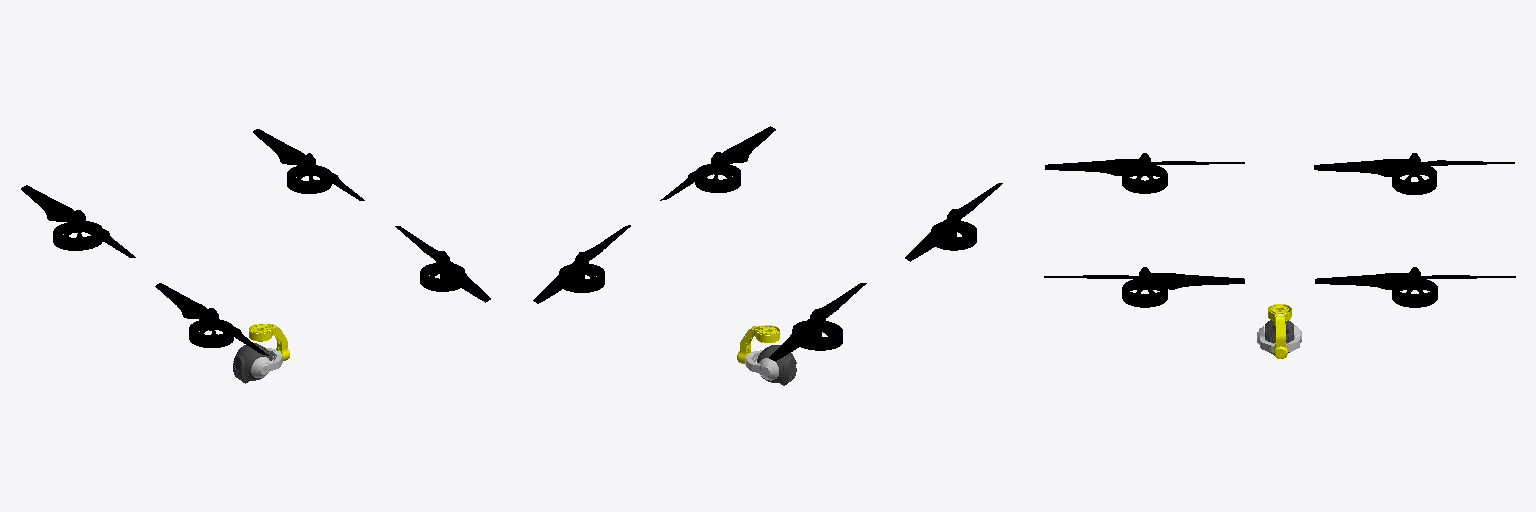
The robot description file, URDF, robot "swarm_drone":
<?xml version="1.0" ?>
<!-- =================================================================================== -->
<!-- |    This document was autogenerated by xacro from drone.urdf.xacro               | -->
<!-- |    EDITING THIS FILE BY HAND IS NOT RECOMMENDED                                 | -->
<!-- =================================================================================== -->
<robot name="swarm_drone">
  <material name="CameraMesh.001">
    <color rgba="0.02745 0.02745 0.02745 1.00000"/>
  </material>
  <!-- Dark grey color for the depth camera plastic material -->
  <material name="CameraMesh.003">
    <color rgba="0.02745 0.02745 0.02745 1.00000"/>
  </material>
  <material name="Material.005">
    <color rgba="0.80000 0.80000 0.80000 1.00000"/>
  </material>
  <!-- Darker black color for the landing drone parts -->
  <material name="LandingRubber">
    <color rgba="0.00392 0.00392 0.00392 1.00000"/>
  </material>
  <!-- Light grey color for the joint of 360 camera -->
  <material name="Metal">
    <color rgba="0.31765 0.31765 0.31765 1.00000"/>
  </material>
  <!-- Light yellow color for the drone body -->
  <material name="RailsAntennaHolder">
    <color rgba="0.95294 0.95294 0.00000 1.00000"/>
  </material>
  <!-- Dark grey color for the drone propellers -->
  <material name="green_metal">
    <color rgba="0.26667 0.02745 0.38824 1.00000"/>
  </material>
  <!-- Dark grey color for the camera 360 holder -->
  <material name="RailsRubber">
    <color rgba="0.10048 0.10048 0.10048 1.00000"/>
  </material>
  <!-- Fiber carbon material for the drone -->
  <material name="CarbonFiber">
    <texture filename="package://drone_description/meshes/visuals/CF.png"/>
    <color rgba="0.80000 0.80000 0.80000 1.00000"/>
  </material>
  <!-- Main quadcopter link -->
  <link name="base_link">
    <collision name="base_collision">
      <origin rpy="0.00000 0.00000 0.00000" xyz="0.00000 -0.00000 -0.00000"/>
      <geometry>
        <mesh filename="package://drone_description/meshes/collisions/base.stl" scale="1.00000 1.00000 1.00000"/>
      </geometry>
    </collision>
    <inertial>
      <inertia ixx="0.00558" ixy="-0.00000" ixz="0.00006" iyy="0.00469" iyz="0.00000" izz="0.00448"/>
      <origin rpy="0.00000 0.00000 0.00000" xyz="0.00015 -0.00004 0.02583"/>
      <mass value="0.32500"/>
    </inertial>
    <visual name="base">
      <origin rpy="0.00000 0.00000 0.00000" xyz="0.00000 -0.00000 -0.00000"/>
      <material name="Metal"/>
      <geometry>
        <mesh filename="package://drone_description/meshes/visuals/base.dae" scale="1.00000 1.00000 1.00000"/>
      </geometry>
    </visual>
  </link>
  <!-- Front left propeller link -->
  <link name="propeller_FL_link">
    <collision name="propeller_FL_collision">
      <origin rpy="0.00000 0.00000 0.00000" xyz="0.00000 0.00000 0.00000"/>
      <geometry>
        <mesh filename="package://drone_description/meshes/collisions/prop_fl.stl" scale="0.75000 0.75000 0.75000"/>
      </geometry>
    </collision>
    <inertial>
      <inertia ixx="0.00006" ixy="0.00000" ixz="0.00000" iyy="0.00001" iyz="-0.00000" izz="0.00007"/>
      <origin rpy="0.00000 0.00000 0.00000" xyz="0.00000 -0.00000 0.00000"/>
      <mass value="0.05000"/>
    </inertial>
    <visual name="propeller_FL">
      <origin rpy="0.00000 0.00000 0.00000" xyz="0.00000 0.00000 0.00000"/>
      <material name="LandingRubber"/>
      <geometry>
        <mesh filename="package://drone_description/meshes/visuals/prop_fl.dae" scale="0.75000 0.75000 0.75000"/>
      </geometry>
    </visual>
  </link>
  <!-- Front left propeller link -->
  <link name="propeller_FR_link">
    <collision name="propeller_FR_collision">
      <origin rpy="0.00000 0.00000 0.00000" xyz="0.00000 0.00000 -0.00000"/>
      <geometry>
        <mesh filename="package://drone_description/meshes/collisions/prop_fl.stl" scale="0.85046 0.75000 0.75000"/>
      </geometry>
    </collision>
    <inertial>
      <inertia ixx="0.00006" ixy="-0.00000" ixz="-0.00000" iyy="0.00001" iyz="0.00000" izz="0.00007"/>
      <origin rpy="0.00000 0.00000 0.00000" xyz="-0.00000 -0.00000 -0.00000"/>
      <mass value="0.05000"/>
    </inertial>
    <visual name="propeller_FR">
      <origin rpy="0.00000 0.00000 0.00000" xyz="0.00000 -0.00000 -0.00000"/>
      <material name="LandingRubber"/>
      <geometry>
        <mesh filename="package://drone_description/meshes/visuals/prop_fl.dae" scale="0.85046 0.75000 0.75000"/>
      </geometry>
    </visual>
  </link>
  <!-- Back left propeller link -->
  <link name="propeller_BL_link">
    <collision name="propeller_BL_collision">
      <origin rpy="0.00000 0.00000 0.00000" xyz="0.00000 0.00000 -0.00000"/>
      <geometry>
        <mesh filename="package://drone_description/meshes/collisions/prop_bl.stl" scale="0.85046 0.75000 0.75000"/>
      </geometry>
    </collision>
    <inertial>
      <inertia ixx="0.00006" ixy="-0.00000" ixz="-0.00000" iyy="0.00001" iyz="0.00000" izz="0.00007"/>
      <origin rpy="0.00000 0.00000 0.00000" xyz="-0.00000 -0.00000 -0.00000"/>
      <mass value="0.05000"/>
    </inertial>
    <visual name="propeller_BL">
      <origin rpy="0.00000 0.00000 0.00000" xyz="0.00000 0.00000 0.00000"/>
      <material name="LandingRubber"/>
      <geometry>
        <mesh filename="package://drone_description/meshes/visuals/prop_bl.dae" scale="0.85046 0.75000 0.75000"/>
      </geometry>
    </visual>
  </link>
  <!-- Back right propeller link -->
  <link name="propeller_BR_link">
    <collision name="propeller_BR_collision">
      <origin rpy="0.00000 0.00000 0.00000" xyz="0.00000 -0.00000 -0.00000"/>
      <geometry>
        <mesh filename="package://drone_description/meshes/collisions/prop_br.stl" scale="0.75000 0.75000 0.75000"/>
      </geometry>
    </collision>
    <inertial>
      <inertia ixx="0.00006" ixy="0.00000" ixz="0.00000" iyy="0.00001" iyz="-0.00000" izz="0.00007"/>
      <origin rpy="0.00000 0.00000 0.00000" xyz="-0.00000 -0.00000 -0.00000"/>
      <mass value="0.05000"/>
    </inertial>
    <visual name="propeller_BR">
      <origin rpy="0.00000 0.00000 0.00000" xyz="0.00000 -0.00000 0.00000"/>
      <material name="LandingRubber"/>
      <geometry>
        <mesh filename="package://drone_description/meshes/visuals/prop_br.dae" scale="0.75000 0.75000 0.75000"/>
      </geometry>
    </visual>
  </link>
  <!-- Camera 360 link -->
  <link name="camera_360_link">
    <collision name="camera_360_collision">
      <origin rpy="-1.57080 0.00000 -0.11900" xyz="-0.00000 -0.00000 0.00000"/>
      <geometry>
        <mesh filename="package://drone_description/meshes/collisions/camera_360.stl" scale="0.00072 0.00072 0.00072"/>
      </geometry>
    </collision>
    <inertial>
      <inertia ixx="0.00001" ixy="-0.00000" ixz="-0.00000" iyy="0.00001" iyz="-0.00000" izz="0.00001"/>
      <origin rpy="0.00000 0.00000 0.00000" xyz="-0.00243 -0.00074 -0.00000"/>
      <mass value="0.03000"/>
    </inertial>
    <visual name="camera_360">
      <origin rpy="-1.57080 0.00000 -0.11900" xyz="-0.00000 -0.00000 0.00000"/>
      <material name="Metal"/>
      <geometry>
        <mesh filename="package://drone_description/meshes/visuals/camera_360.dae" scale="0.00072 0.00072 0.00072"/>
      </geometry>
    </visual>
  </link>
  <!-- Camera joint 1 link -->
  <link name="camera_joint_1_link">
    <collision name="camera_joint_1_collision">
      <origin rpy="0.66577 -1.57080 -0.64827" xyz="-0.00000 0.00000 0.00000"/>
      <geometry>
        <mesh filename="package://drone_description/meshes/collisions/camera_joint1.stl" scale="0.00072 0.00072 0.00072"/>
      </geometry>
    </collision>
    <inertial>
      <inertia ixx="0.00001" ixy="-0.00000" ixz="0.00000" iyy="0.00001" iyz="-0.00000" izz="0.00001"/>
      <origin rpy="0.00000 0.00000 0.00000" xyz="-0.00002 -0.00019 -0.01854"/>
      <mass value="0.03000"/>
    </inertial>
    <visual name="camera_joint_1">
      <origin rpy="0.66577 -1.57080 -0.64827" xyz="-0.00000 0.00000 0.00000"/>
      <material name="Material.005"/>
      <geometry>
        <mesh filename="package://drone_description/meshes/visuals/camera_joint1.dae" scale="0.00072 0.00072 0.00072"/>
      </geometry>
    </visual>
  </link>
  <!-- Camera joint 2 link -->
  <link name="camera_joint_2_link">
    <collision name="camera_joint_2_collision">
      <origin rpy="3.14159 0.00000 3.10524" xyz="0.00000 -0.00000 -0.00000"/>
      <geometry>
        <mesh filename="package://drone_description/meshes/collisions/camera_joint2.stl" scale="0.00072 0.00072 0.00072"/>
      </geometry>
    </collision>
    <inertial>
      <inertia ixx="0.000001" ixy="0" ixz="0" iyy="0.000001" iyz="0" izz="0.000001"/>
      <origin rpy="0.00000 0.00000 0.00000" xyz="-0.02035 -0.00003 0.01431"/>
      <mass value="0.03000"/>
    </inertial>
    <visual name="camera_joint_2">
      <origin rpy="3.14159 0.00000 3.10524" xyz="0.00000 -0.00000 -0.00000"/>
      <material name="RailsAntennaHolder"/>
      <geometry>
        <mesh filename="package://drone_description/meshes/visuals/camera_joint2.dae" scale="0.00072 0.00072 0.00072"/>
      </geometry>
    </visual>
  </link>
  <!-- Depth camera link -->
  <link name="depth_camera_link">
    <collision name="depth_camera_collision">
      <origin rpy="0.00000 0.00000 0.00000" xyz="-0.00000 0.00000 0.00000"/>
      <geometry>
        <mesh filename="package://drone_description/meshes/collisions/depth_camera.stl" scale="0.01000 0.01000 0.01000"/>
      </geometry>
    </collision>
    <inertial>
      <inertia ixx="0.00002" ixy="-0.00000" ixz="0.00000" iyy="0.00000" iyz="-0.00000" izz="0.00002"/>
      <origin rpy="0.00000 0.00000 0.00000" xyz="-0.00019 -0.00127 -0.00001"/>
      <mass value="0.03100"/>
    </inertial>
    <visual name="depth_camera">
      <origin rpy="0.00000 0.00000 0.00000" xyz="-0.00000 0.00000 0.00000"/>
      <material name="CameraMesh.001"/>
      <geometry>
        <mesh filename="package://drone_description/meshes/visuals/depth_camera.dae" scale="0.01000 0.01000 0.01000"/>
      </geometry>
    </visual>
  </link>
  <!-- Propeller front left joint -->
  <joint name="propeller_FL_link_joint" type="continuous">
    <limit effort="0.00000" lower="0.00000" upper="0.00000" velocity="0.00000"/>
    <origin rpy="0.00000 0.00000 0.00000" xyz="-0.16748 -0.17426 0.11768"/>
    <parent link="base_link"/>
    <child link="propeller_FL_link"/>
    <axis xyz="0.00000 0.00000 -1.00000"/>
  </joint>
  <!-- Propeller front right joint -->
  <joint name="propeller_FR_link_joint" type="continuous">
    <limit effort="0.00000" lower="0.00000" upper="0.00000" velocity="0.00000"/>
    <origin rpy="0.00000 0.00000 0.00000" xyz="-0.16745 0.17390 0.11755"/>
    <parent link="base_link"/>
    <child link="propeller_FR_link"/>
    <axis xyz="0.00000 0.00000 1.00000"/>
  </joint>
  <!-- Propeller back left joint -->
  <joint name="propeller_BL_link_joint" type="continuous">
    <limit effort="0.00000" lower="0.00000" upper="0.00000" velocity="0.00000"/>
    <origin rpy="0.00000 0.00000 0.00000" xyz="0.18040 -0.17426 0.11755"/>
    <parent link="base_link"/>
    <child link="propeller_BL_link"/>
    <axis xyz="0.00000 0.00000 1.00000"/>
  </joint>
  <!-- Propeller back right joint -->
  <joint name="propeller_BR_link_joint" type="continuous">
    <limit effort="0.00000" lower="0.00000" upper="0.00000" velocity="0.00000"/>
    <origin rpy="0.00000 0.00000 0.00000" xyz="0.18040 0.17437 0.11755"/>
    <parent link="base_link"/>
    <child link="propeller_BR_link"/>
    <axis xyz="0.00000 0.00000 -1.00000"/>
  </joint>
  <!-- Camera 360 joint -->
  <joint name="camera_360_link_joint" type="revolute">
    <limit effort="0.00000" lower="-3.14000" upper="3.14000" velocity="0.00000"/>
    <origin rpy="2.53286 -1.57080 -0.94457" xyz="-0.00000 0.00000 -0.03433"/>
    <parent link="camera_joint_1_link"/>
    <child link="camera_360_link"/>
    <axis xyz="0.00000 0.00000 1.00000"/>
  </joint>
  <!-- Camera joint 1 joint -->
  <joint name="camera_joint_1_link_joint" type="revolute">
    <limit effort="0.00000" lower="-3.14000" upper="3.14000" velocity="0.00000"/>
    <origin rpy="2.75924 -1.57080 -2.79559" xyz="-0.02297 0.00088 0.03900"/>
    <parent link="camera_joint_2_link"/>
    <child link="camera_joint_1_link"/>
    <axis xyz="0.00000 0.00000 1.00000"/>
  </joint>
  <!-- Camera joint 2 joint -->
  <joint name="camera_joint_2_link_joint" type="revolute">
    <limit effort="0.00000" lower="-3.14000" upper="3.14000" velocity="0.00000"/>
    <origin rpy="3.14159 -0.00000 -3.14159" xyz="0.00665 -0.00026 -0.00516"/>
    <parent link="base_link"/>
    <child link="camera_joint_2_link"/>
    <axis xyz="0.00000 0.00000 1.00000"/>
  </joint>
  <!-- Depth camera joint -->
  <joint name="depth_camera_link_joint" type="fixed">
    <origin rpy="0.00000 0.00000 1.57080" xyz="-0.12089 0.00157 0.08506"/>
    <parent link="base_link"/>
    <child link="depth_camera_link"/>
  </joint>
  <!-- ROS 2 Control Configuration -->
  <ros2_control name="DroneControl" type="system">
    <hardware>
      <plugin>gz_ros2_control/GazeboSimSystem</plugin>
    </hardware>
    <joint name="propeller_FL_link_joint">
      <command_interface name="velocity">
        <param name="min">-3000</param>
        <param name="max">3000</param>
      </command_interface>
      <state_interface name="position"/>
      <state_interface name="velocity"/>
      <state_interface name="effort"/>
    </joint>
    <joint name="propeller_FR_link_joint">
      <command_interface name="velocity">
        <param name="min">-3000</param>
        <param name="max">3000</param>
      </command_interface>
      <state_interface name="position"/>
      <state_interface name="velocity"/>
      <state_interface name="effort"/>
    </joint>
    <joint name="propeller_BL_link_joint">
      <command_interface name="velocity">
        <param name="min">-3000</param>
        <param name="max">3000</param>
      </command_interface>
      <state_interface name="position"/>
      <state_interface name="velocity"/>
      <state_interface name="effort"/>
    </joint>
    <joint name="propeller_BR_link_joint">
      <command_interface name="velocity">
        <param name="min">-3000</param>
        <param name="max">3000</param>
      </command_interface>
      <state_interface name="position"/>
      <state_interface name="velocity"/>
      <state_interface name="effort"/>
    </joint>
  </ros2_control>
  <!-- Gazebo Plugin -->
  <gazebo>
    <plugin filename="gz_ros2_control-system" name="gz_ros2_control::GazeboSimROS2ControlPlugin">
      <parameters>[local-path]/SWARM_PROJECT/install/drone_description/share/drone_description/config/drone_controllers.yaml</parameters>
    </plugin>
  </gazebo>
</robot>

--- Facts derived from the render (not from the file) ---
3 views of the same robot in one strip: view 1: azimuth 30°, elevation 25°; view 2: azimuth 150°, elevation 25°; view 3: azimuth 270°, elevation 25° (orthographic).
Model swarm_drone with 9 links and 8 joints (3 revolute, 4 continuous, 1 fixed), rooted at base_link, posed all joints at 0.
Links seen in each view (by area): view 1: propeller_FR_link, propeller_FL_link, propeller_BR_link, propeller_BL_link, camera_360_link, camera_joint_2_link, camera_joint_1_link; view 2: propeller_BL_link, propeller_FR_link, propeller_FL_link, propeller_BR_link, camera_joint_2_link, camera_360_link, camera_joint_1_link; view 3: propeller_FR_link, propeller_BL_link, propeller_BR_link, propeller_FL_link, camera_joint_2_link.
Boxes of the visible links, bbox=[...] form: propeller_FR_link: bbox=[21, 185, 135, 257]; propeller_FL_link: bbox=[155, 283, 268, 355]; propeller_BR_link: bbox=[253, 129, 364, 200]; propeller_BL_link: bbox=[395, 226, 490, 302]; camera_360_link: bbox=[233, 343, 271, 383]; camera_joint_2_link: bbox=[249, 324, 289, 360]; camera_joint_1_link: bbox=[251, 348, 282, 377]; propeller_BL_link: bbox=[660, 126, 775, 200]; propeller_FR_link: bbox=[769, 283, 866, 360]; propeller_FL_link: bbox=[905, 183, 1002, 261]; propeller_BR_link: bbox=[533, 225, 630, 303]; camera_joint_2_link: bbox=[737, 325, 779, 364]; camera_360_link: bbox=[757, 345, 796, 385]; camera_joint_1_link: bbox=[746, 350, 778, 380]; propeller_FR_link: bbox=[1314, 153, 1514, 194]; propeller_BL_link: bbox=[1044, 267, 1244, 307]; propeller_BR_link: bbox=[1315, 267, 1515, 307]; propeller_FL_link: bbox=[1045, 153, 1244, 193]; camera_joint_2_link: bbox=[1268, 304, 1291, 358].
Size in the robot's own frame: 0.4108 by 0.6082 by 0.2111 metres.
7 mesh visuals loaded from 8 distinct referenced files (6 Collada DAE); not drawn: 2 (reference not matched to a file when rendering).
